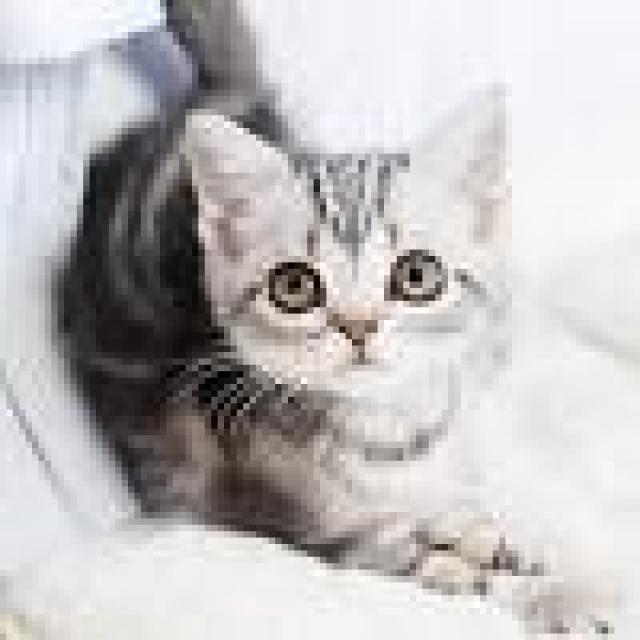cat-face: (166, 69, 543, 416)
